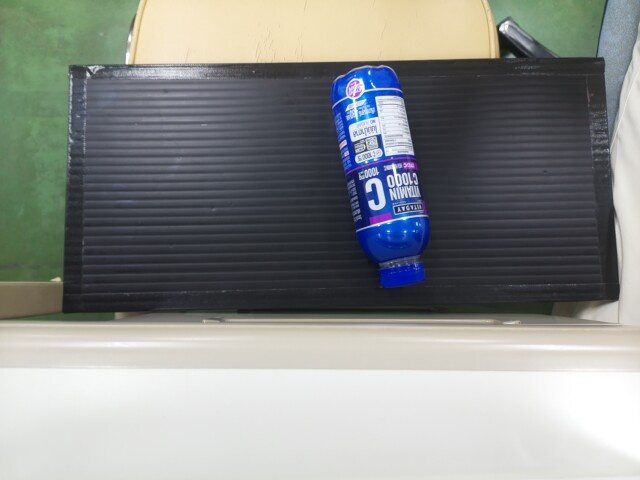plastic_bottle: (333, 66, 421, 285)
